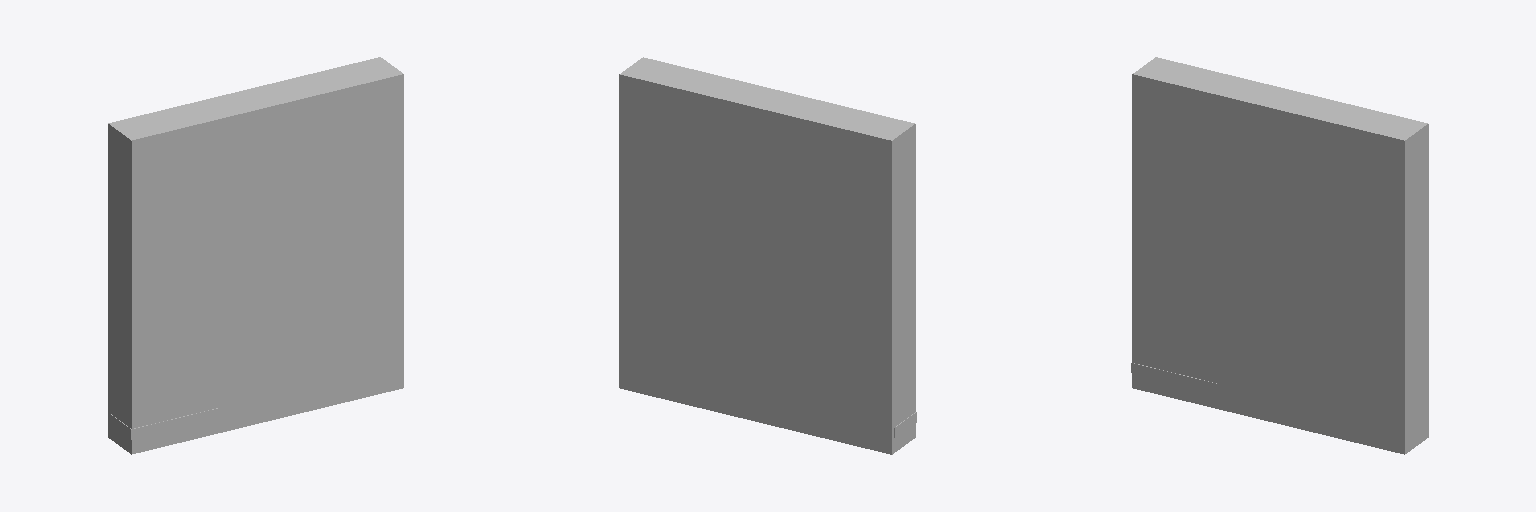
Rendered from stair wall3.obj.
3 renders of one model, left to right at view 1: azimuth 30°, elevation 25°; view 2: azimuth 150°, elevation 25°; view 3: azimuth 330°, elevation 25°, orthographic.
Visible parts, largest first — view 1: Part3, Part1; view 2: Part3; view 3: Part3, Part1.
Part boxes in pixels (x1,y1,x2,y2): Part3: (108, 57, 403, 454); Part1: (131, 408, 219, 439); Part3: (619, 57, 915, 454); Part3: (1132, 57, 1428, 454); Part1: (1131, 363, 1219, 394).
Bounding box in the file's own units: 18.89 × 20.76 × 2.86.